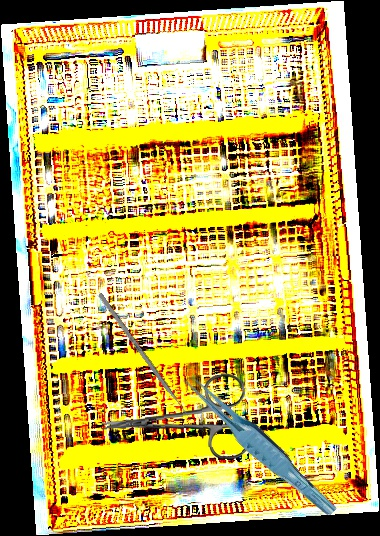Iris Scissors: (99, 372, 249, 466)
Pusher: (97, 292, 197, 427)
Tissue Forceps: (179, 359, 339, 528)
